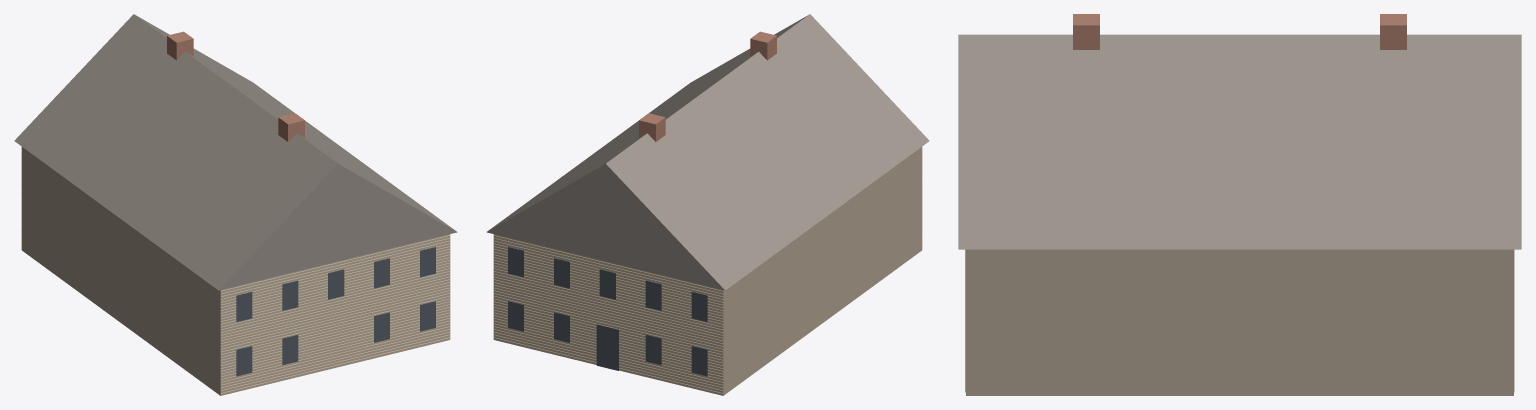
Rendered from western_hotel__frame_1834.glb.
3 views of the same model, side by side, from view 1: azimuth 30°, elevation 25°; view 2: azimuth 150°, elevation 25°; view 3: azimuth 270°, elevation 25° (orthographic). The views are drawn at different scales.
Parts seen in each view (by area): view 1: western_hotel__frame_1834; view 2: western_hotel__frame_1834; view 3: western_hotel__frame_1834.
Part boxes in pixels (<box>): western_hotel__frame_1834: <box>14,14,457,395</box>; western_hotel__frame_1834: <box>486,14,929,395</box>; western_hotel__frame_1834: <box>958,14,1521,395</box>.
Bounding box in the file's own units: 12.69 × 11.01 × 18.79.
